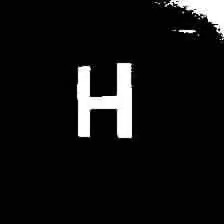LTR_H: (69, 58, 142, 143)
